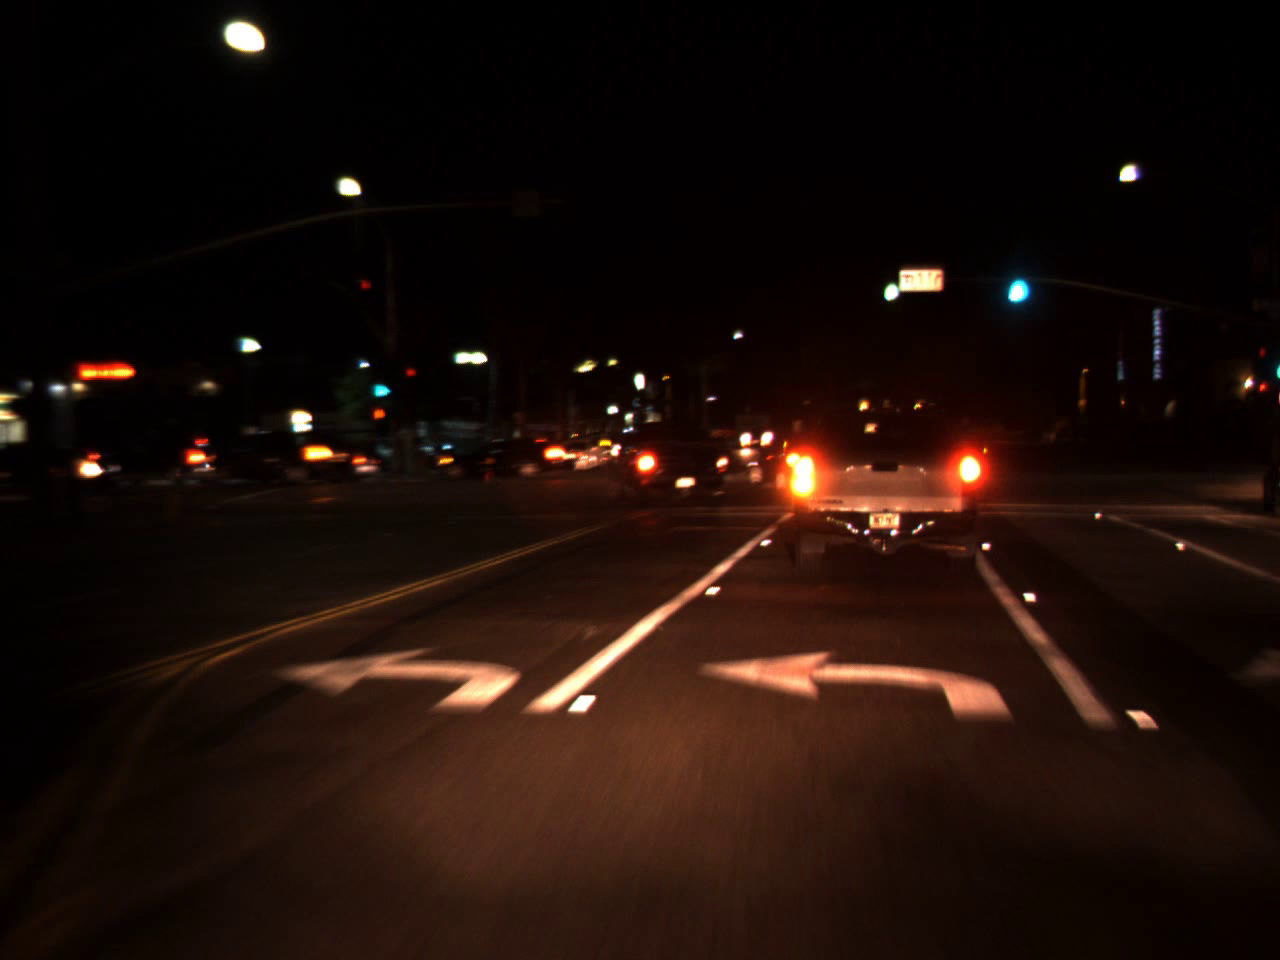go: (999, 251, 1033, 311), (880, 265, 901, 307), (369, 371, 394, 401)
